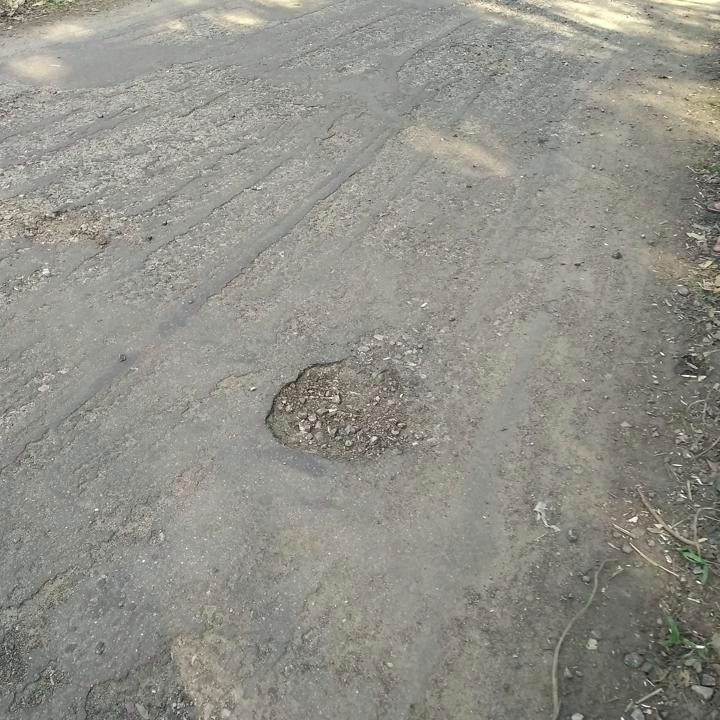pothole: (258, 353, 428, 463), (30, 199, 102, 244)
